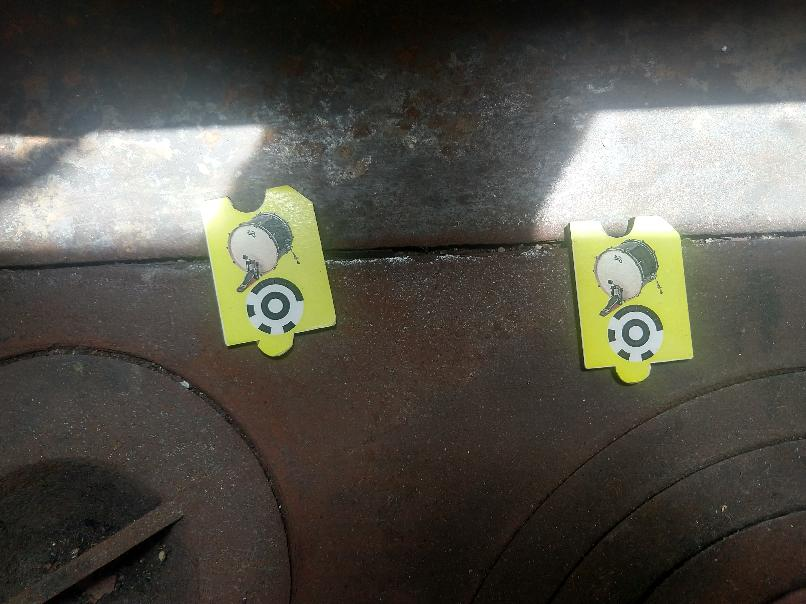bumbo: (195, 182, 341, 357), (569, 215, 698, 382)
